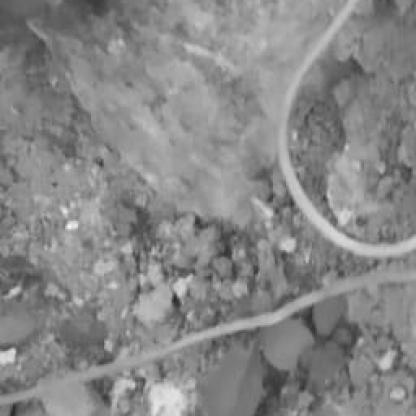wires: (0, 271, 414, 406), (277, 2, 414, 258)
